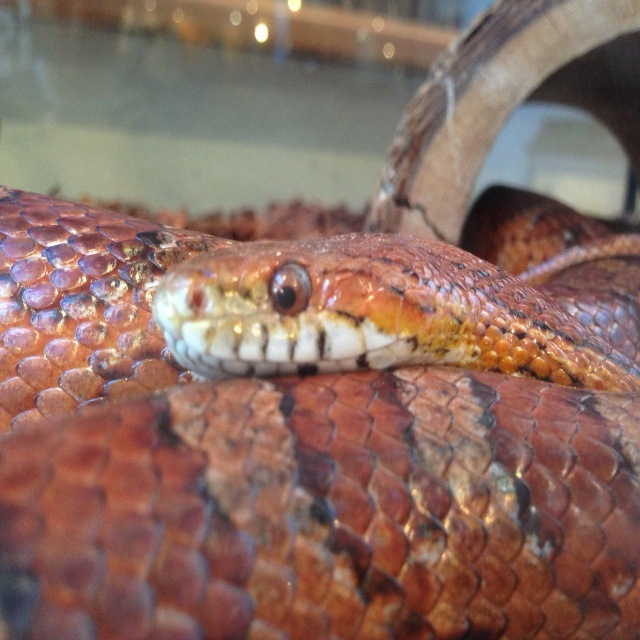Snake: (0, 182, 640, 640)
